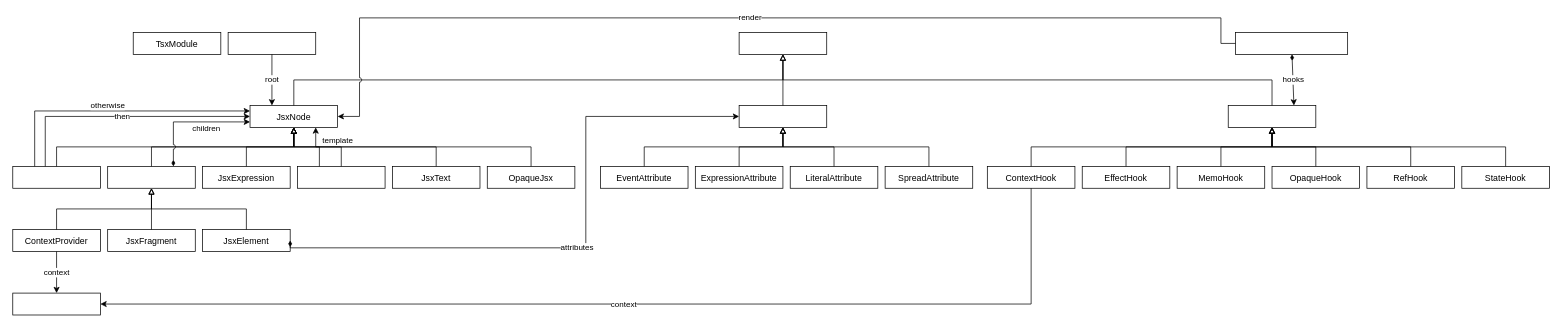
This 1562x328 diagram has some shape labels left out. Here are the shapes that lost their labels. From the top down, the box of each, then its label:
(227, 32, 316, 54): JsxBlock
(738, 32, 827, 54): ReactElement
(1235, 32, 1348, 54): ComponentDeclaration
(738, 105, 827, 127): JsxAttribute
(1227, 105, 1316, 127): Hook
(12, 166, 100, 188): JsxConditional
(107, 166, 195, 188): JsxContainer
(297, 166, 385, 188): JsxIterator
(12, 292, 100, 315): ContextDeclaration
